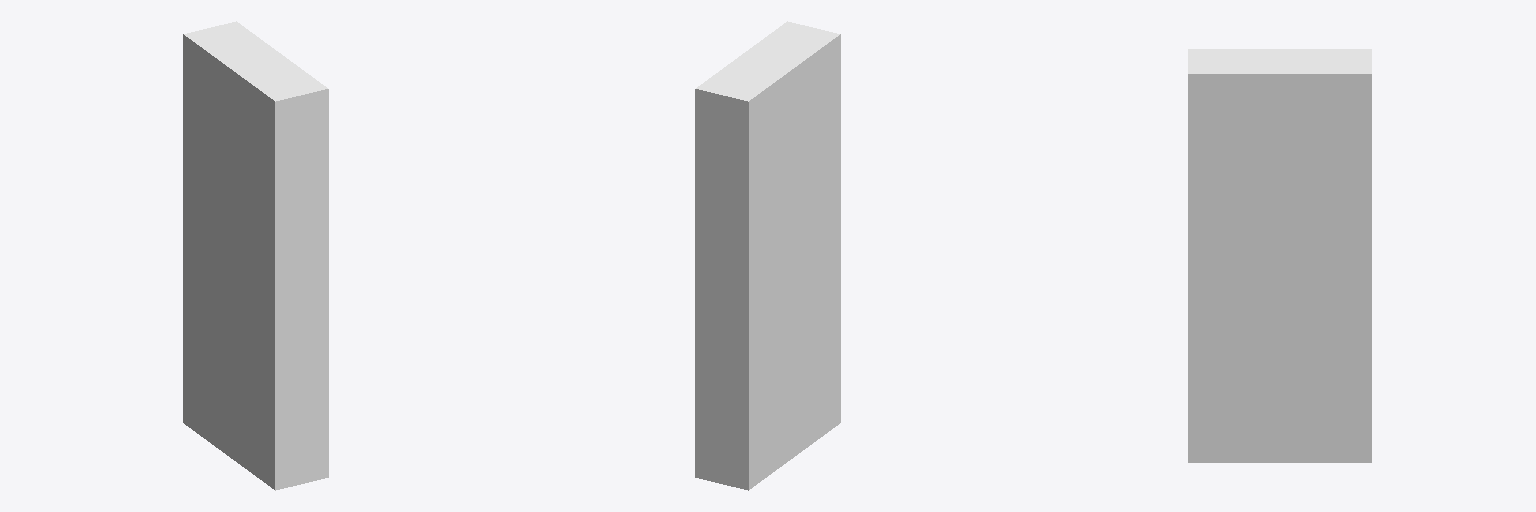
The model's file is anim_player_snowman_hands.obj.
3 renders of one model, left to right at view 1: azimuth 30°, elevation 25°; view 2: azimuth 150°, elevation 25°; view 3: azimuth 270°, elevation 25°, orthographic.
Parts seen in each view (by area): view 1: object 1; view 2: object 1; view 3: object 1.
Boxes of the visible parts, x1,y1,x2,y2 form: object 1: [183, 21, 328, 490]; object 1: [695, 21, 840, 490]; object 1: [1188, 49, 1371, 462].
Bounding box in the file's own units: 0.1 × 0.7 × 0.3.